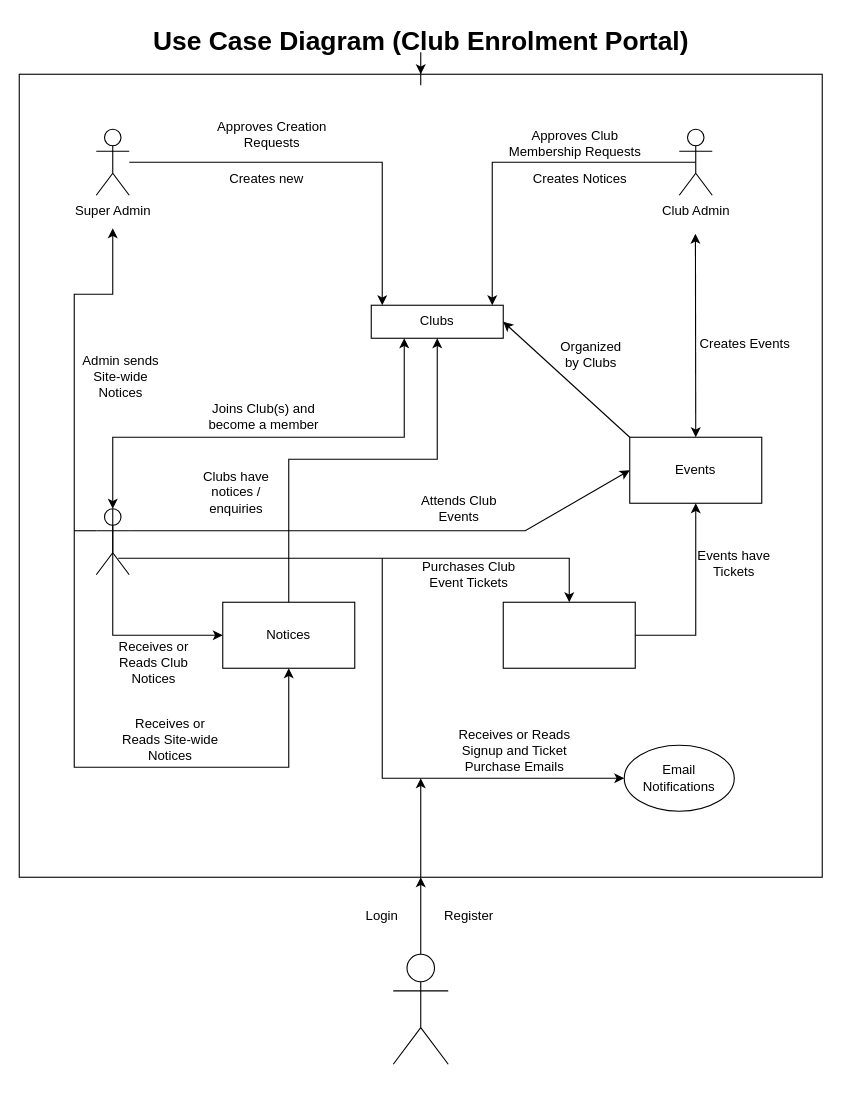
Image size: 842x1106. Some labels were removed from this diagram. The centre of each missing label's shape, as x and y in pixels:
"Tickets" belongs at (568,634).
"User" belongs at (112,541).
"Visitor" belongs at (420,1008).
